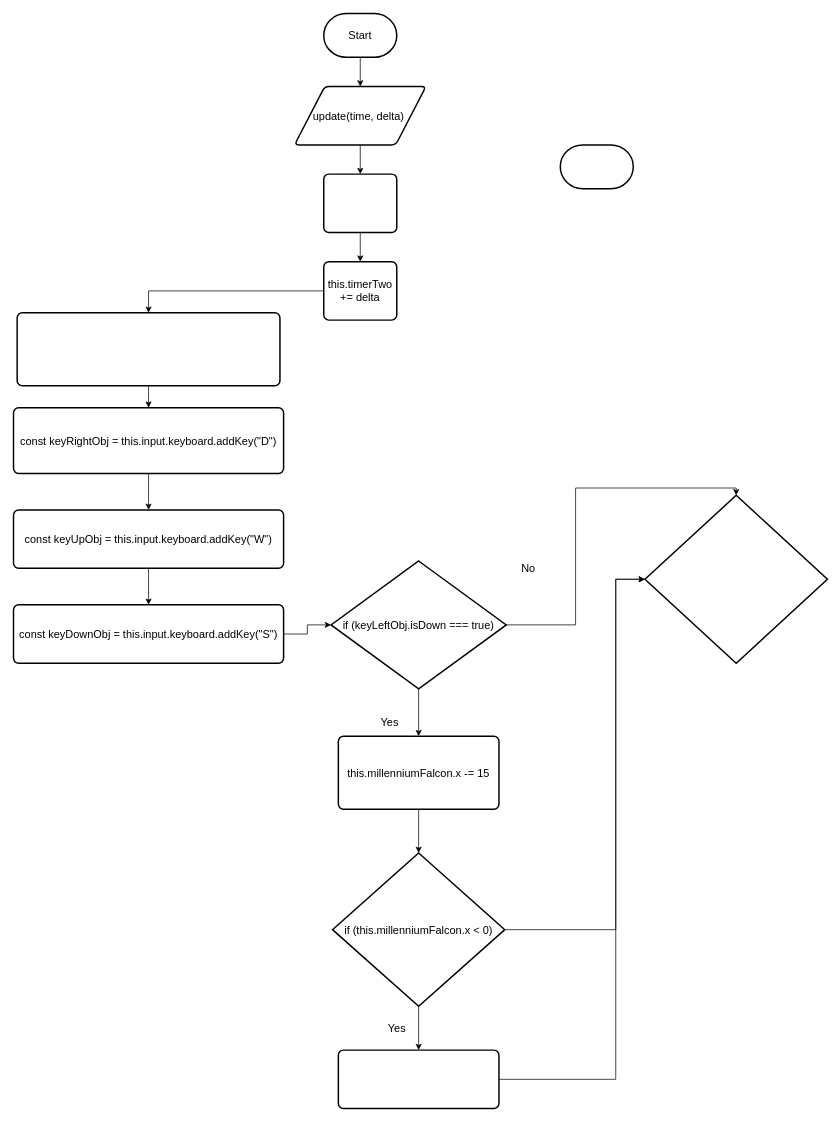
Image size: 840x1121. Some labels were removed from this diagram. Here are the shapes that lost their labels. From the top down, the centre of each, then its label:
(x=360, y=203): this.timer += delta
(x=148, y=349): const keyLeftObj = this.input.keyboard.addkey("A")
(x=736, y=579): if (keyRightObj.isDown === true)
(x=418, y=1079): this.millenniumFalcon.x = 0
